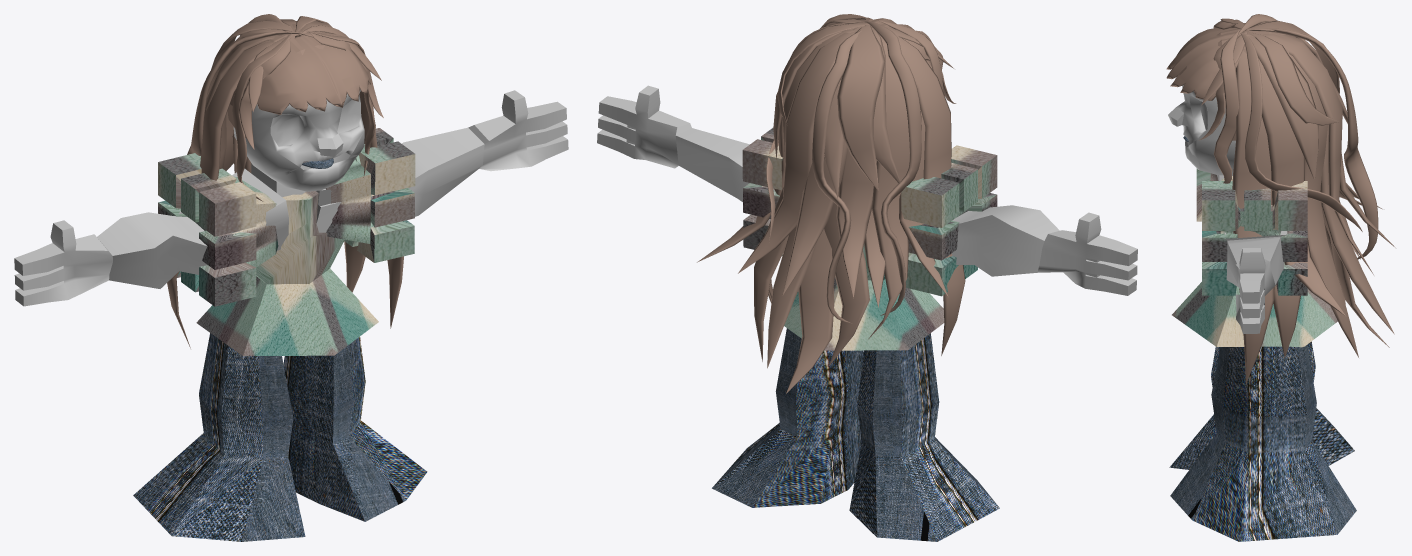
Rendered from rig practicw 1.fbx.
3 views of the same model, side by side, from view 1: azimuth 30°, elevation 25°; view 2: azimuth 150°, elevation 25°; view 3: azimuth 270°, elevation 25° (orthographic). The views are drawn at different scales.
Visible parts, largest first — view 1: dress_amd_hands, C007_Hair___Copy:hair, dress_harms, dress_harms1, face2; view 2: dress_amd_hands, C007_Hair___Copy:hair, dress_harms, dress_harms1; view 3: dress_amd_hands, C007_Hair___Copy:hair, dress_harms1, face2, dress_harms, wig_cap.
Part boxes in pixels (<box>): dress_amd_hands: <box>14,90,568,541</box>; C007_Hair___Copy:hair: <box>167,14,403,348</box>; dress_harms: <box>158,153,278,306</box>; dress_harms1: <box>325,125,415,262</box>; face2: <box>233,89,364,191</box>; dress_amd_hands: <box>597,85,1137,541</box>; C007_Hair___Copy:hair: <box>697,14,965,393</box>; dress_harms: <box>901,145,997,296</box>; dress_harms1: <box>742,128,783,255</box>; dress_amd_hands: <box>1169,175,1356,541</box>; C007_Hair___Copy:hair: <box>1166,14,1395,383</box>; dress_harms1: <box>1202,181,1307,295</box>; face2: <box>1168,85,1235,175</box>; dress_harms: <box>1196,168,1218,221</box>; wig_cap: <box>1216,28,1285,140</box>.
Bounding box in the file's own units: 14.86 × 12.27 × 5.66.
